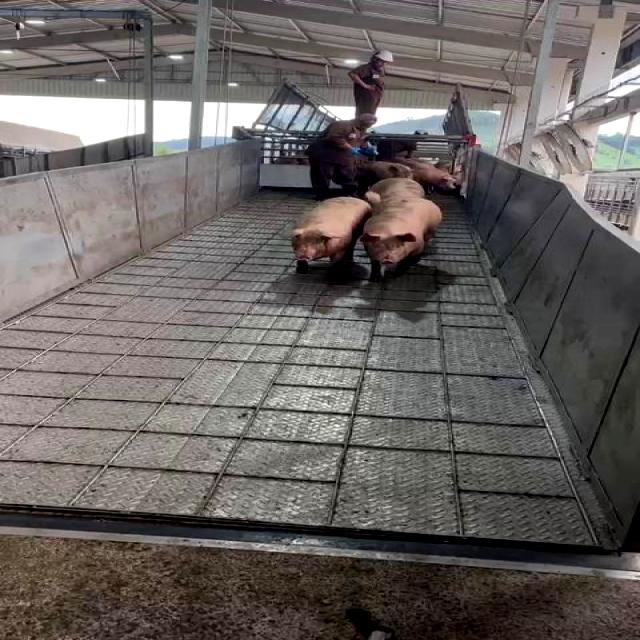pig: (361, 199, 442, 279), (291, 197, 371, 271), (365, 179, 423, 211)
